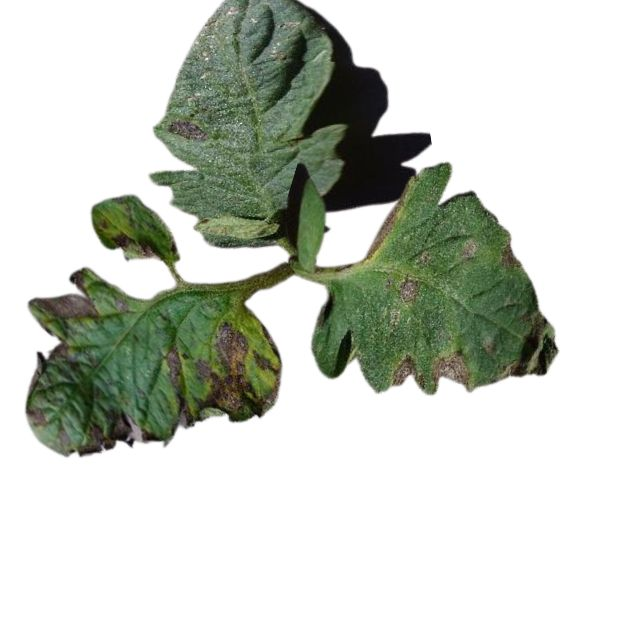Early_blight: (194, 316, 282, 420), (81, 405, 162, 456), (369, 181, 414, 260), (30, 272, 102, 320), (20, 339, 68, 403), (164, 344, 193, 429), (432, 347, 471, 392), (112, 230, 161, 262), (390, 354, 426, 392), (166, 116, 204, 142), (498, 242, 523, 270), (398, 273, 420, 302), (26, 406, 50, 430)
